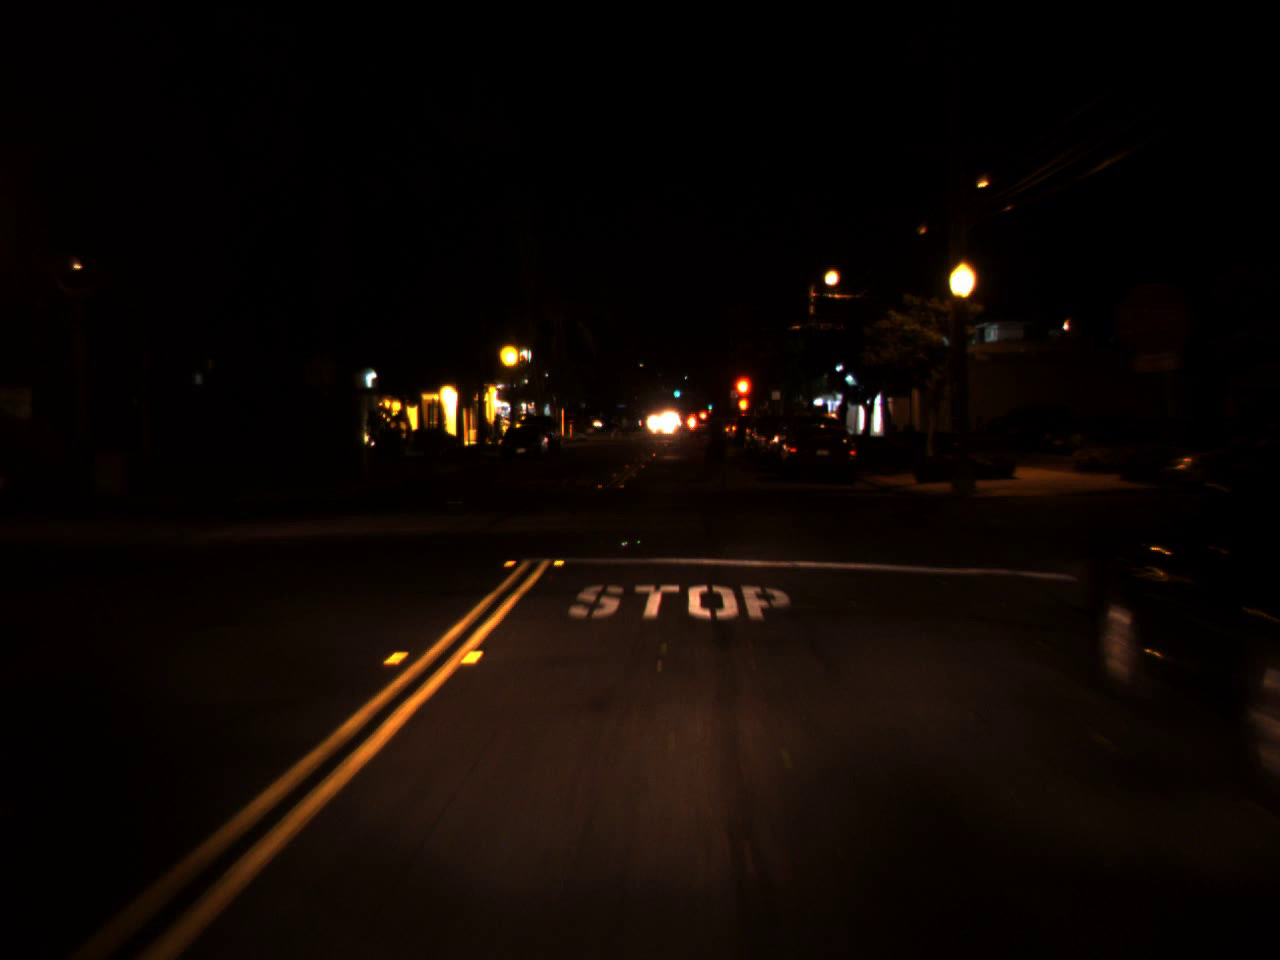go: (671, 383, 681, 398), (706, 398, 713, 410)
stop: (732, 373, 753, 421)
